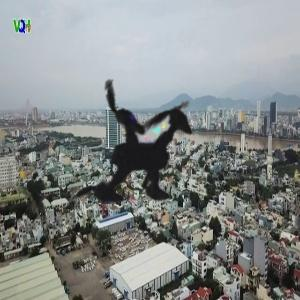drone: (12, 28, 283, 299)
